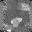people: (10, 17, 22, 28)
